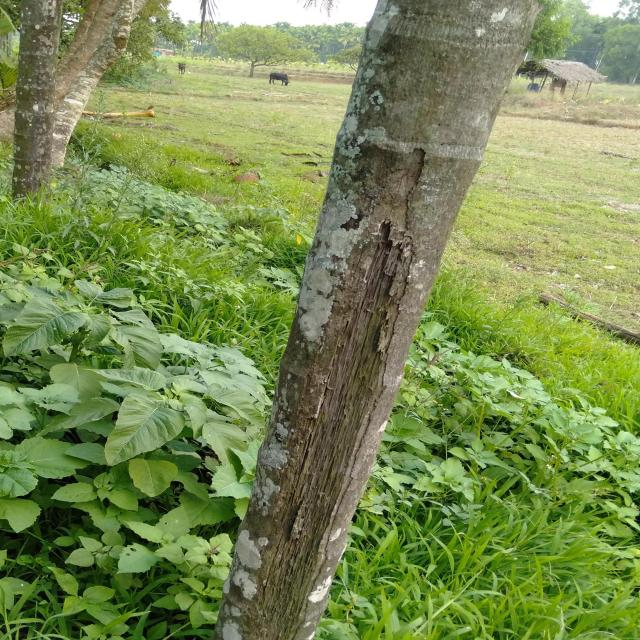Stem_Cracking: (101, 102, 584, 536)
